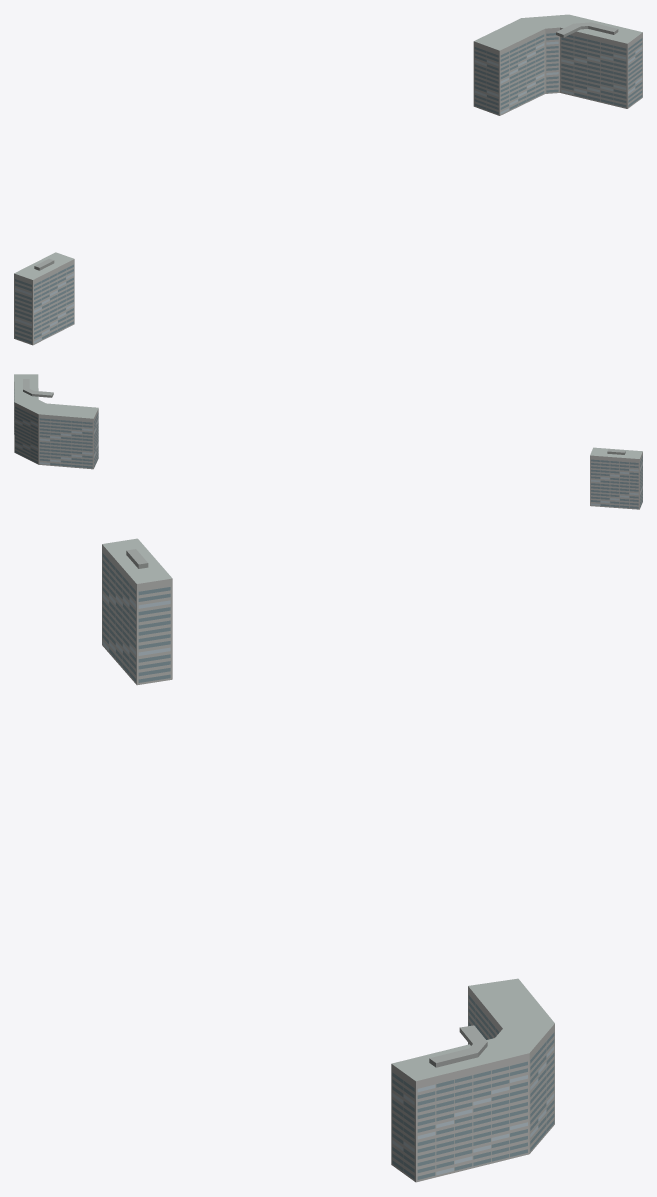
The model's file is apt-a13776509.glb.
The picture shows the model from 3 angles, top to bottom: view 1: azimuth 30°, elevation 25°; view 2: azimuth 150°, elevation 25°; view 3: azimuth 270°, elevation 25°; orthographic projection. The views are drawn at different scales.
Parts seen in each view (by area): view 1: apt-a13776509; view 2: apt-a13776509; view 3: apt-a13776509.
Boxes of the visible parts, <box> form: apt-a13776509: <box>14,14,642,345</box>; apt-a13776509: <box>14,374,642,509</box>; apt-a13776509: <box>102,538,554,1182</box>.
Bounding box in the file's own units: 526 × 47.81 × 186.
